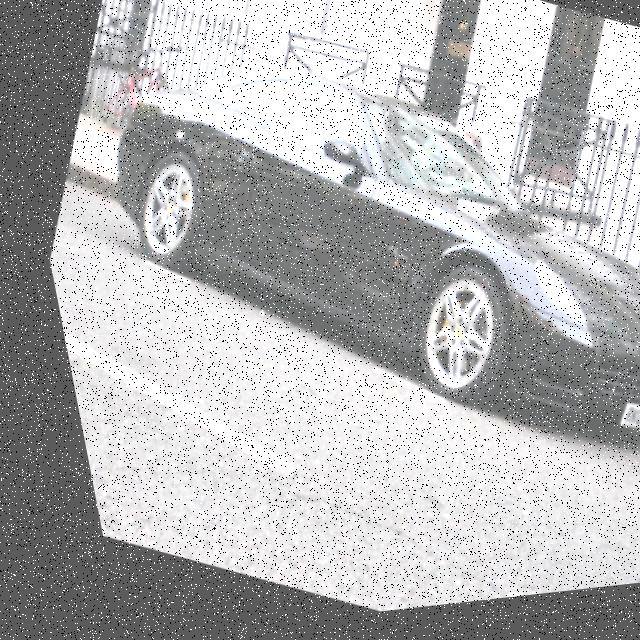license_plate: (595, 404, 640, 454)
